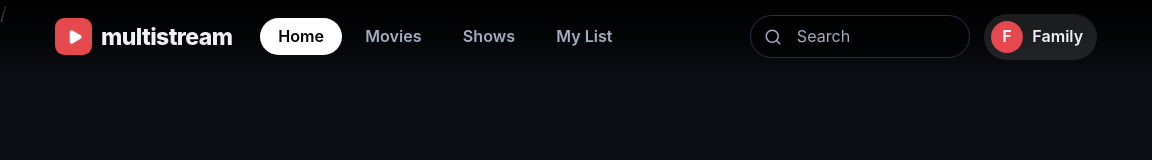
Test: Header › searches immediately on Enter and encodes the query
Type "spider man & co" into the search field named "Search movies and shows".
click(860, 37); type("spider man & co")  # box [750,15,970,58]
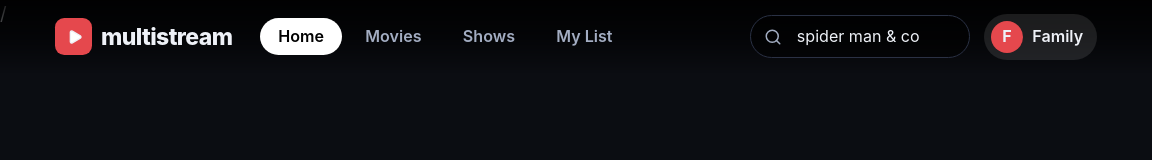
Submit the form named "Search movies and shows", box [750,15,970,58]
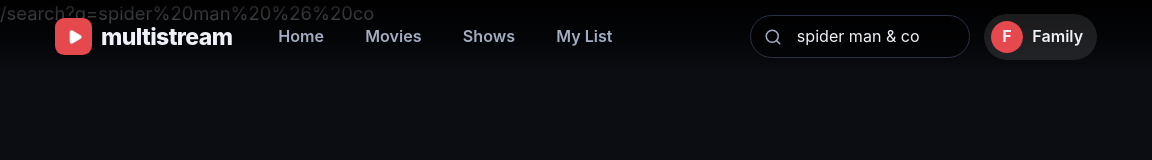
Check: the text with test id "where" reads "/search?q=spider%20man%20%26%20co", box [0,2,374,24]
